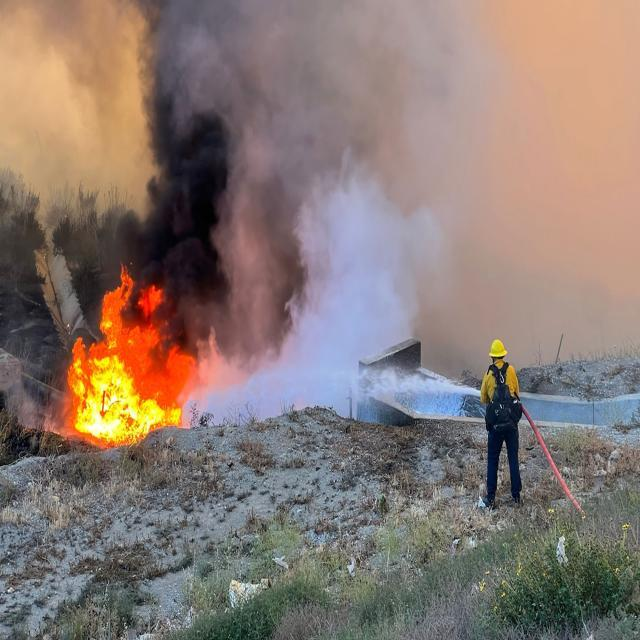Fire: (53, 278, 188, 444)
Smoke: (29, 8, 640, 418)
